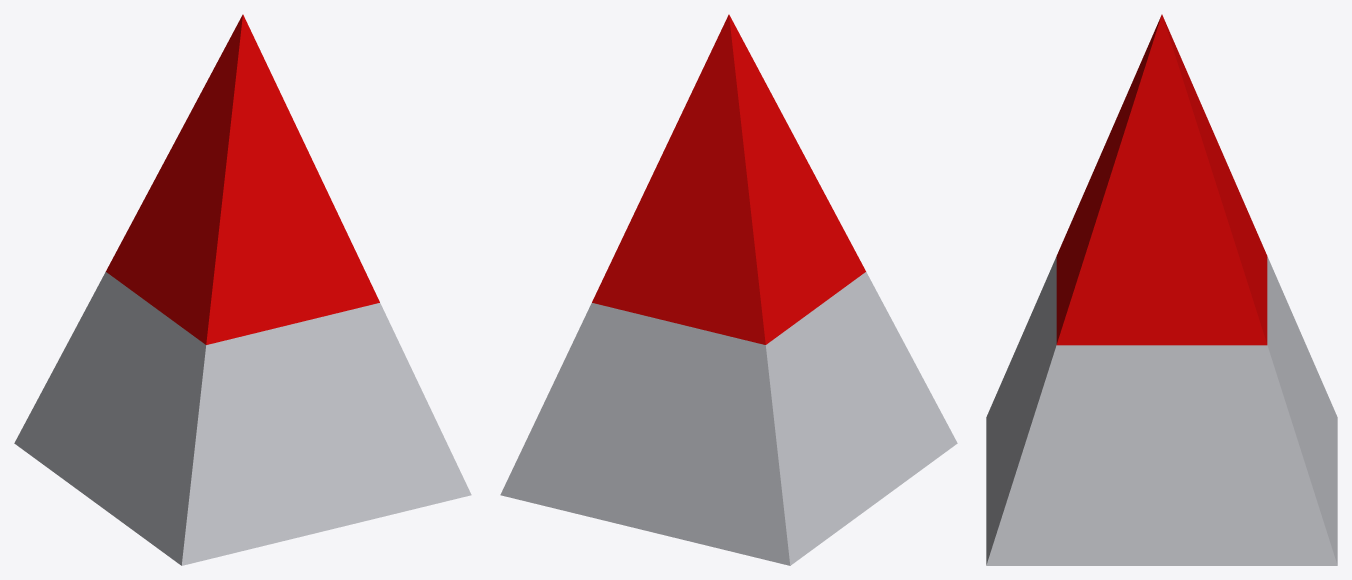
Rendered from pincho2.FBX.
The picture shows the model from 3 angles, left to right: view 1: azimuth 30°, elevation 25°; view 2: azimuth 150°, elevation 25°; view 3: azimuth 270°, elevation 25°; orthographic projection. The views are drawn at different scales.
Parts seen in each view (by area): view 1: Pyramid001; view 2: Pyramid001; view 3: Pyramid001.
Boxes of the visible parts, x1=… form: Pyramid001: x1=14, y1=14, x2=471, y2=565; Pyramid001: x1=500, y1=14, x2=957, y2=565; Pyramid001: x1=986, y1=14, x2=1337, y2=565.
Bounding box in the file's own units: 10 × 15 × 10.
